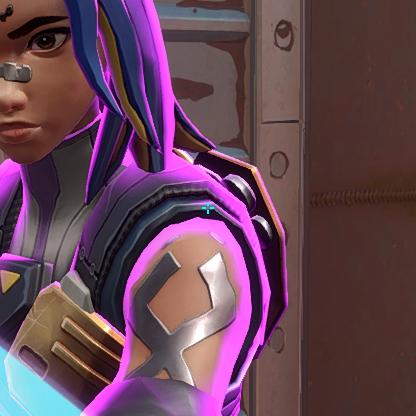enemyBody: (10, 198, 192, 416)
enemyHead: (0, 0, 88, 136)
